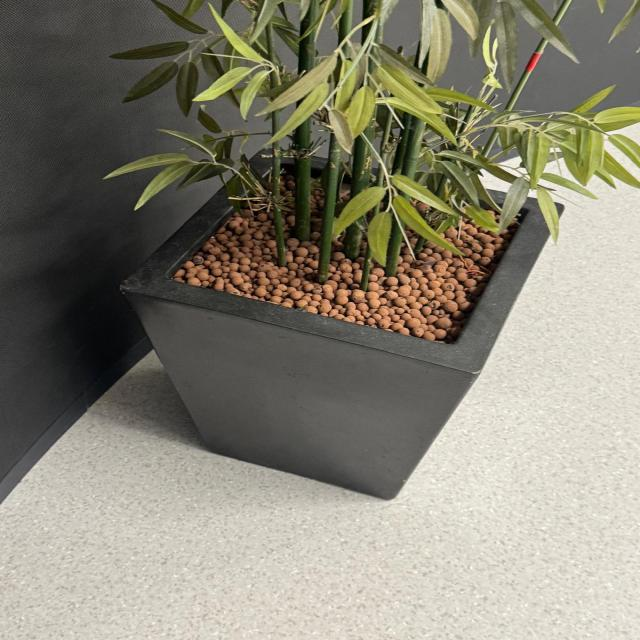Pot: (118, 146, 564, 502)
